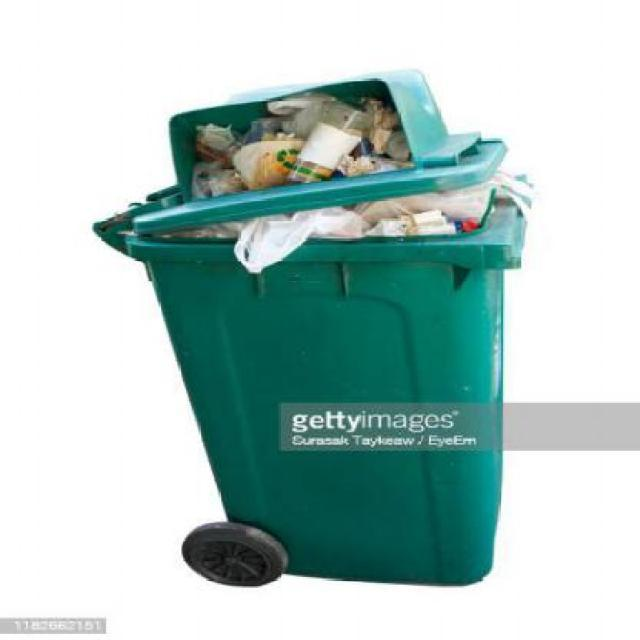garbage container: (88, 67, 553, 601)
